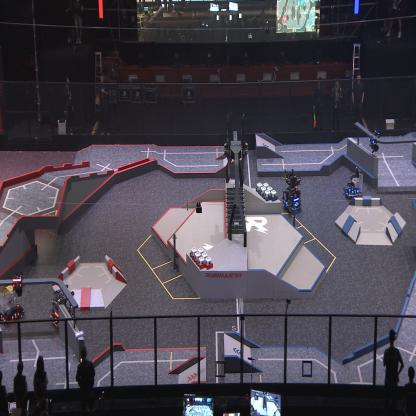car: (50, 281, 76, 331), (0, 283, 23, 326), (282, 170, 302, 214), (343, 166, 364, 204)
